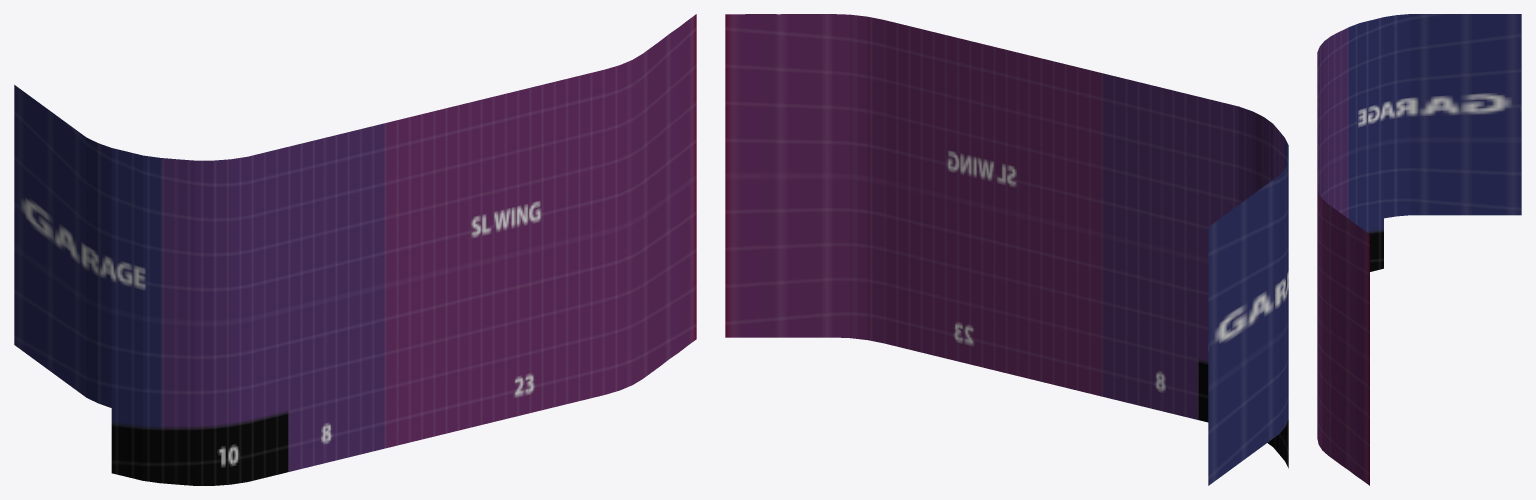
The model's file is ANYMA_Coachella_Stage_v013_LED_SL_WING.glb.
The picture shows the model from 3 angles, left to right: view 1: azimuth 30°, elevation 25°; view 2: azimuth 150°, elevation 25°; view 3: azimuth 270°, elevation 25°; orthographic projection. The views are drawn at different scales.
Visible parts, largest first — view 1: LED_SL_WING_FrontP.002; view 2: LED_SL_WING_FrontP.002; view 3: LED_SL_WING_FrontP.002.
Part boxes in pixels (x1,y1,x2,y2): LED_SL_WING_FrontP.002: (14, 14, 696, 485); LED_SL_WING_FrontP.002: (725, 14, 1288, 485); LED_SL_WING_FrontP.002: (1317, 14, 1521, 485).
Bounding box in the file's own units: 22.54 × 12 × 8.83.
Materials: 1 (1 with a texture image).
